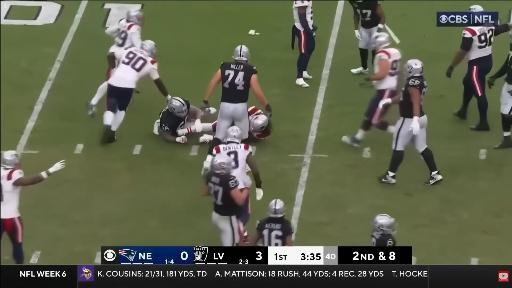Helmet: (374, 214, 396, 234), (168, 97, 188, 117), (212, 155, 232, 174), (373, 32, 391, 50), (405, 60, 423, 78), (269, 199, 286, 218), (250, 115, 268, 132), (226, 126, 243, 143), (2, 151, 19, 168), (233, 45, 250, 61), (141, 40, 156, 57), (127, 10, 143, 24), (469, 5, 483, 11)
Jersey: (108, 47, 159, 88), (220, 62, 257, 103), (206, 172, 239, 216), (213, 143, 252, 179), (461, 26, 495, 61), (399, 76, 427, 118), (0, 168, 23, 218), (374, 48, 401, 90), (257, 217, 293, 246), (350, 1, 380, 29), (160, 107, 187, 137), (115, 19, 141, 48), (494, 43, 511, 85), (293, 1, 313, 30), (372, 232, 396, 246), (251, 126, 270, 139)
Player: (202, 46, 271, 174), (379, 60, 442, 185), (0, 151, 65, 264), (102, 40, 170, 143), (446, 24, 511, 130), (342, 33, 401, 146), (88, 10, 144, 117), (202, 155, 248, 246), (214, 126, 263, 200), (488, 32, 511, 149), (350, 1, 385, 74), (154, 97, 202, 143), (292, 1, 317, 87), (250, 199, 294, 246), (248, 107, 271, 141), (372, 215, 396, 246)
